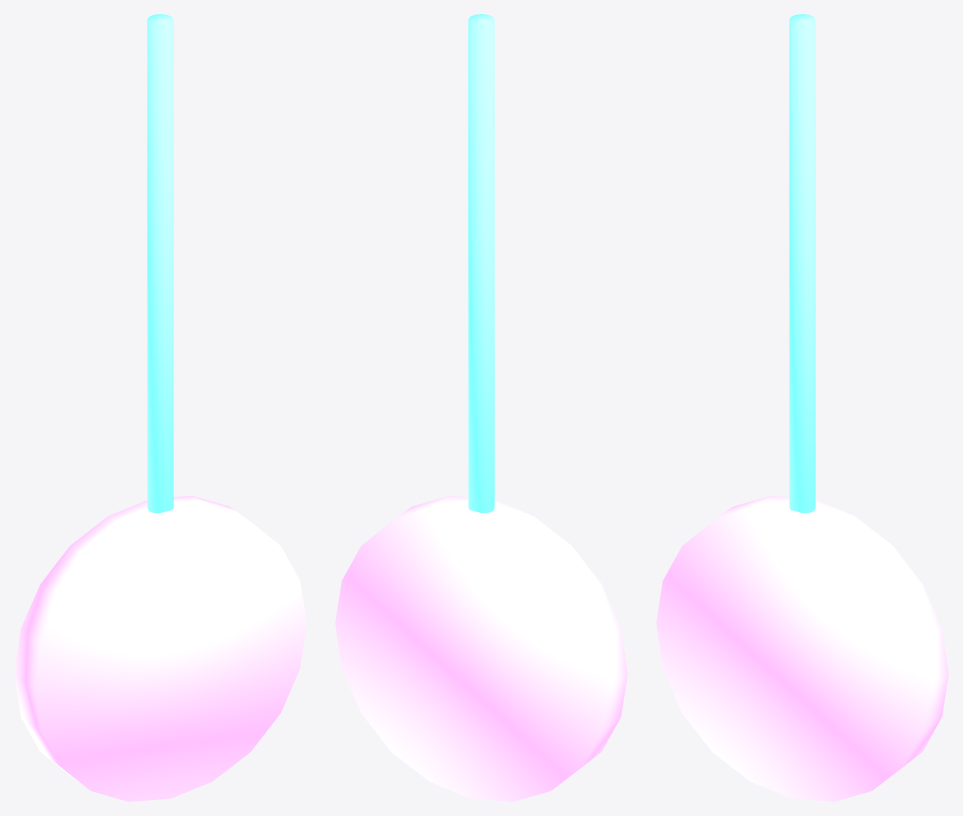
Rendered from pendulum_axe.glb.
3 views of the same model, side by side, from view 1: azimuth 30°, elevation 25°; view 2: azimuth 150°, elevation 25°; view 3: azimuth 330°, elevation 25° (orthographic).
Visible parts, largest first — view 1: Cylinder.001, Cylinder; view 2: Cylinder.001, Cylinder; view 3: Cylinder.001, Cylinder.
Boxes of the visible parts, x1,y1,x2,y2 form: Cylinder.001: [14, 495, 306, 801]; Cylinder: [147, 14, 173, 512]; Cylinder.001: [335, 495, 627, 801]; Cylinder: [468, 14, 494, 512]; Cylinder.001: [656, 495, 948, 801]; Cylinder: [789, 14, 815, 512].
Bounding box in the file's own units: 1.9 × 5.15 × 0.25.
